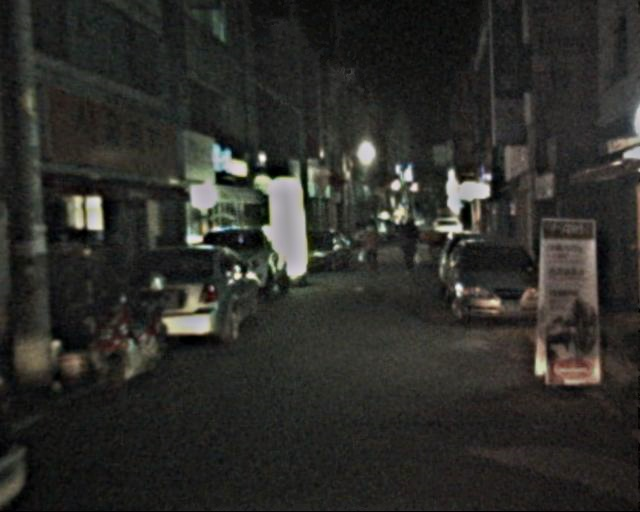person: (397, 216, 422, 276), (363, 219, 385, 273)
